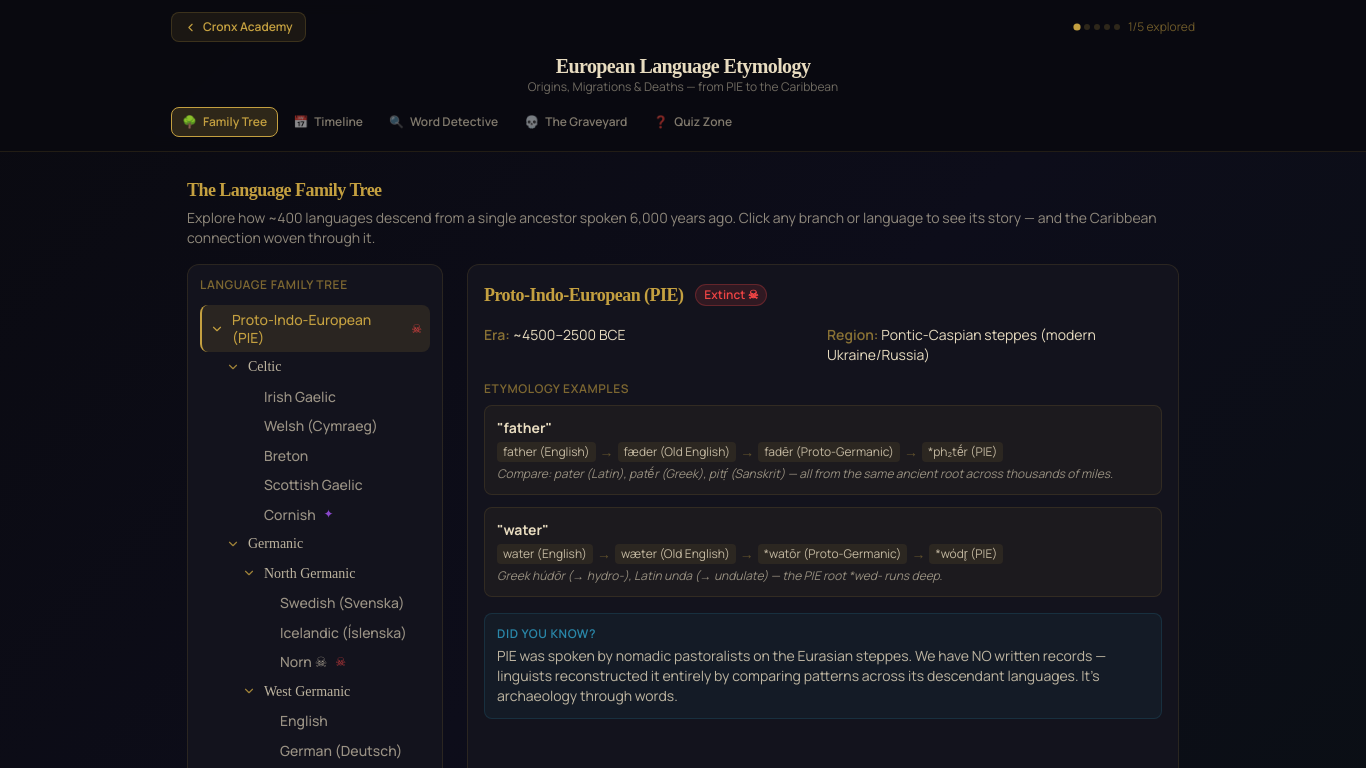
Test: EtymologyInteractive › Section 3: Word Detective › shows the first word (RIVER)
This screenshot has width=1366, height=768.
Click the text "Word Detective" at (454, 122), box [410, 114, 498, 130]
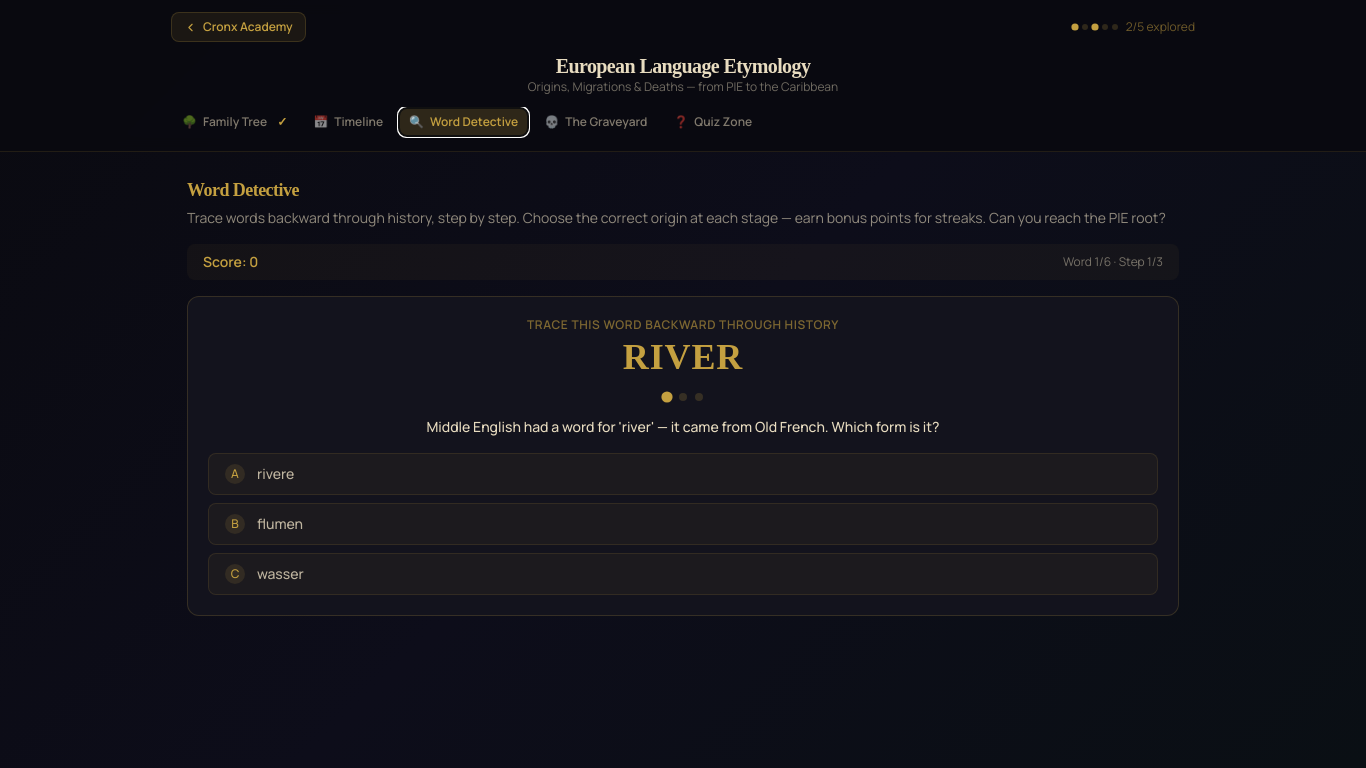
expect the text "RIVER" is shown: met, box [623, 337, 743, 377]
